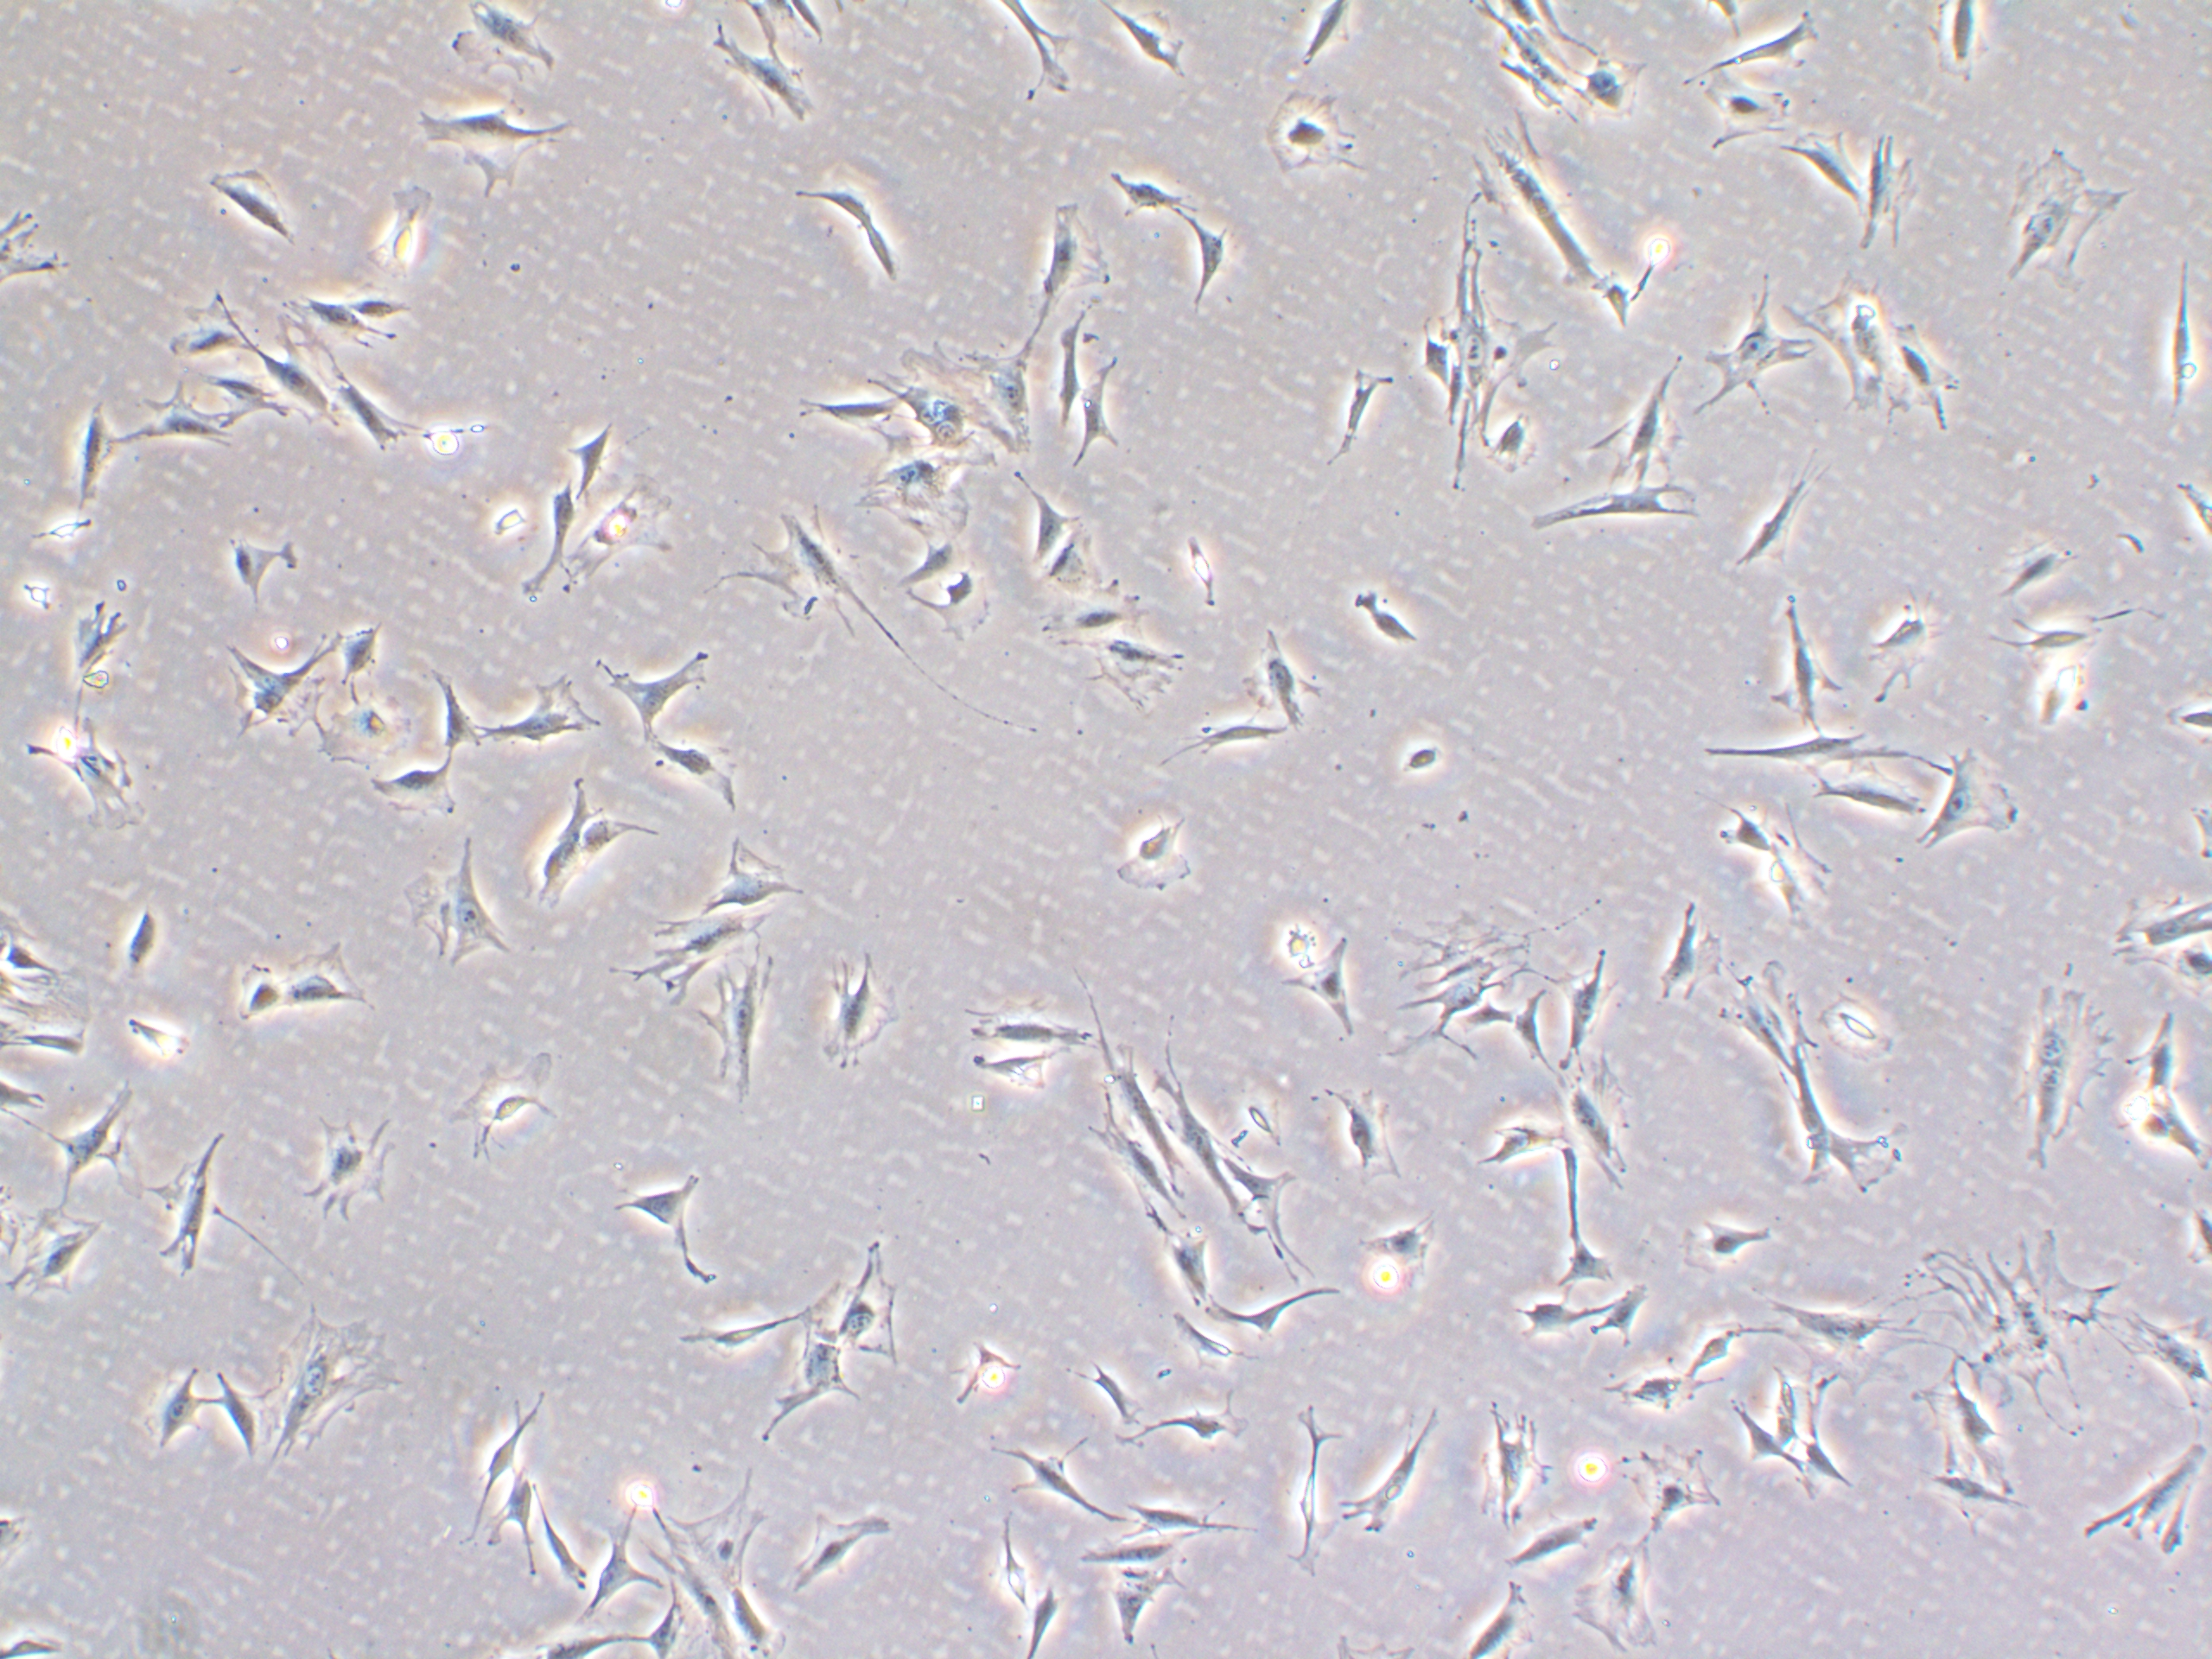small: (1386, 735, 1454, 786), (469, 491, 531, 545)
spread: (1914, 1234, 2141, 1432), (1782, 261, 1963, 453), (1383, 884, 1543, 1096), (1416, 251, 1548, 490), (242, 1310, 409, 1481), (1998, 965, 2116, 1192), (1977, 132, 2128, 305), (653, 1478, 796, 1659), (437, 1037, 603, 1175), (1761, 1284, 1918, 1419), (1238, 73, 1402, 197), (873, 343, 1049, 458), (836, 432, 1017, 544), (395, 821, 500, 981), (291, 1086, 408, 1225), (287, 673, 415, 795), (1083, 624, 1198, 725), (1696, 61, 1804, 160)
